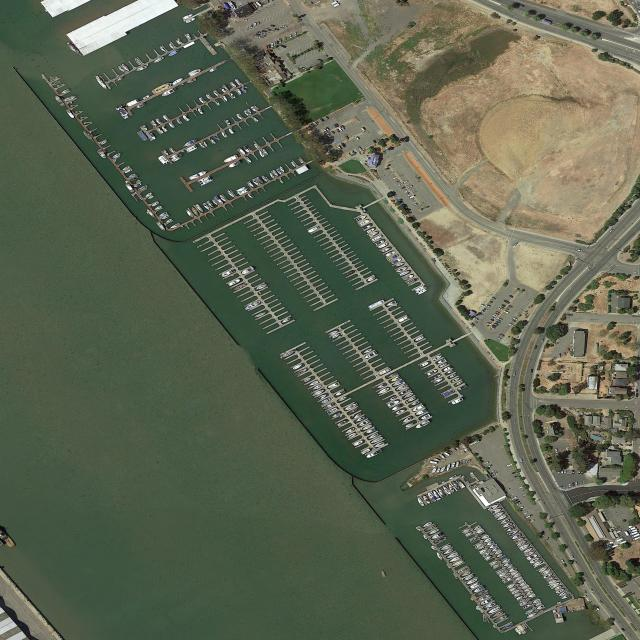large-vehicle: (605, 540, 615, 546), (603, 547, 612, 552), (630, 531, 639, 536), (624, 530, 630, 537), (517, 485, 525, 490), (620, 540, 628, 545), (616, 537, 624, 542), (612, 544, 620, 548), (630, 529, 638, 533), (615, 530, 622, 534), (629, 527, 636, 531)
ship: (152, 81, 174, 95), (94, 75, 109, 91), (115, 105, 131, 120), (188, 170, 208, 181), (196, 175, 213, 187), (365, 448, 383, 459), (244, 300, 262, 311), (160, 87, 178, 98), (68, 43, 82, 57), (368, 299, 385, 310), (135, 130, 150, 142), (414, 419, 430, 430), (222, 154, 239, 164), (414, 285, 429, 296), (235, 185, 250, 196), (169, 152, 184, 163), (157, 154, 170, 166), (125, 98, 140, 108), (82, 130, 94, 142), (53, 95, 65, 107), (295, 367, 310, 376), (221, 269, 236, 278), (182, 139, 197, 148), (187, 68, 202, 77), (450, 397, 464, 406), (387, 399, 401, 408), (364, 351, 378, 360), (445, 551, 459, 560), (456, 566, 470, 575), (480, 597, 494, 606), (494, 614, 508, 623), (322, 402, 336, 411), (370, 436, 384, 445), (357, 218, 371, 227), (124, 182, 135, 193), (97, 149, 108, 160), (146, 209, 157, 220), (156, 221, 167, 232), (232, 283, 247, 291), (412, 404, 425, 413), (392, 379, 405, 388), (228, 160, 241, 169), (344, 403, 357, 412), (228, 278, 241, 287), (241, 266, 254, 275), (171, 77, 184, 86), (378, 367, 391, 376), (414, 408, 428, 416), (442, 389, 456, 397), (376, 387, 390, 395), (281, 350, 295, 358), (312, 389, 326, 397), (451, 559, 465, 567), (477, 594, 491, 602), (487, 606, 501, 614), (441, 485, 452, 495), (190, 206, 200, 217), (396, 265, 408, 274), (398, 388, 411, 396), (395, 384, 408, 392), (426, 368, 439, 376), (327, 381, 340, 389), (439, 544, 452, 552), (424, 524, 437, 532), (449, 555, 462, 563), (465, 578, 478, 586), (484, 602, 497, 610), (367, 433, 380, 441), (373, 441, 386, 449), (254, 311, 267, 319), (255, 283, 268, 291), (406, 277, 419, 285), (185, 145, 198, 153), (307, 226, 320, 234), (355, 214, 368, 222), (487, 503, 500, 511), (451, 480, 461, 490), (446, 483, 456, 493), (436, 487, 446, 497), (416, 497, 426, 507), (65, 109, 75, 119), (214, 195, 224, 205), (401, 416, 413, 424), (385, 300, 397, 308), (442, 548, 454, 556), (434, 536, 446, 544), (431, 532, 443, 540), (463, 574, 475, 582), (361, 424, 373, 432), (346, 432, 358, 440), (387, 254, 399, 262), (368, 230, 380, 238), (153, 56, 165, 64), (549, 581, 561, 589), (390, 258, 403, 265), (402, 274, 415, 281), (64, 95, 77, 102), (502, 623, 515, 630), (490, 507, 503, 514), (526, 553, 539, 560), (181, 13, 194, 20), (431, 490, 441, 499), (426, 492, 436, 501), (422, 495, 431, 505), (226, 190, 236, 199), (195, 204, 205, 213), (121, 63, 130, 73), (227, 1, 237, 10), (390, 375, 401, 383), (292, 363, 303, 371), (469, 582, 480, 590), (473, 586, 484, 594), (344, 427, 355, 435), (361, 447, 372, 455), (135, 102, 146, 110), (558, 590, 569, 598), (397, 316, 409, 323), (432, 354, 444, 361), (478, 589, 490, 596), (492, 611, 504, 618), (358, 420, 370, 427), (337, 420, 349, 427), (327, 407, 339, 414), (371, 235, 383, 242), (169, 223, 181, 230), (167, 50, 179, 57), (493, 511, 505, 518), (516, 540, 528, 547), (519, 543, 531, 550), (524, 550, 536, 557), (529, 557, 541, 564), (435, 551, 444, 560), (219, 194, 228, 203), (185, 209, 194, 218), (202, 202, 211, 211), (206, 200, 215, 209), (395, 408, 406, 415), (391, 404, 402, 411), (403, 392, 414, 399), (387, 372, 398, 379), (308, 380, 319, 387), (59, 88, 70, 95), (422, 521, 433, 528), (461, 570, 472, 577), (366, 428, 377, 435), (355, 416, 366, 423), (337, 396, 348, 403), (320, 398, 331, 405), (353, 440, 364, 447), (281, 317, 292, 324), (366, 276, 377, 283), (399, 270, 410, 277), (385, 250, 396, 257), (378, 242, 389, 249), (136, 65, 147, 72), (496, 514, 507, 521), (502, 522, 513, 529), (511, 533, 522, 540), (514, 537, 525, 544), (532, 560, 543, 567), (541, 569, 552, 576), (543, 572, 554, 579), (545, 575, 556, 582), (328, 329, 339, 336), (238, 147, 246, 156), (256, 176, 264, 185), (526, 612, 538, 618), (457, 480, 466, 488), (252, 178, 260, 187), (117, 65, 126, 73), (380, 569, 388, 578), (407, 396, 417, 403), (457, 384, 467, 391), (454, 380, 464, 387), (377, 382, 387, 389), (312, 384, 322, 391), (420, 361, 430, 368), (335, 390, 345, 397), (362, 224, 372, 231), (381, 246, 391, 253), (208, 66, 218, 73), (477, 531, 487, 538), (472, 525, 482, 532), (482, 537, 492, 544), (485, 540, 495, 547), (488, 543, 498, 550), (506, 526, 516, 533), (509, 529, 519, 536), (523, 547, 533, 554), (519, 600, 529, 607), (502, 577, 512, 584), (498, 571, 508, 578), (560, 594, 570, 601), (433, 378, 444, 384), (414, 336, 425, 342), (317, 394, 328, 400), (429, 529, 440, 535), (348, 408, 359, 414), (186, 78, 197, 84), (555, 588, 566, 594), (185, 18, 196, 24), (257, 149, 265, 157), (268, 171, 276, 179), (261, 175, 269, 183), (247, 181, 255, 189), (134, 57, 142, 65), (222, 2, 230, 10), (411, 400, 420, 407), (536, 604, 545, 611), (479, 548, 488, 555), (421, 414, 431, 420), (451, 377, 461, 383), (303, 377, 313, 383), (363, 348, 373, 354), (331, 412, 341, 418), (366, 227, 376, 233), (375, 240, 385, 246), (138, 185, 148, 191), (112, 153, 122, 159), (116, 76, 126, 82), (525, 609, 535, 615), (461, 528, 471, 534), (480, 534, 490, 540), (500, 519, 510, 525), (538, 567, 548, 573), (483, 555, 493, 561), (522, 587, 532, 593), (511, 589, 521, 595), (489, 560, 499, 566), (531, 599, 541, 605), (506, 583, 516, 589), (513, 576, 523, 582), (548, 579, 558, 585), (331, 333, 341, 339), (243, 146, 251, 153), (262, 148, 269, 156), (440, 465, 447, 473), (198, 142, 206, 149), (163, 149, 170, 157), (182, 115, 190, 122), (223, 84, 230, 92), (161, 125, 168, 133), (149, 133, 157, 140), (159, 45, 166, 53), (437, 358, 446, 364), (443, 366, 452, 372), (353, 413, 362, 419), (448, 475, 457, 481), (130, 176, 139, 182), (144, 192, 153, 198), (161, 214, 170, 220), (475, 528, 484, 534), (482, 552, 491, 558), (491, 547, 500, 553), (509, 586, 518, 592), (527, 593, 536, 599), (510, 570, 519, 576), (512, 573, 521, 579), (508, 567, 517, 573), (496, 569, 505, 575), (501, 558, 510, 564), (493, 550, 502, 556), (554, 585, 563, 591), (121, 166, 131, 171), (158, 212, 168, 217), (245, 157, 252, 164), (290, 161, 297, 168), (272, 170, 279, 177), (431, 467, 438, 474), (221, 131, 228, 138), (168, 122, 175, 129), (211, 199, 218, 206), (234, 79, 241, 86), (229, 92, 236, 99), (222, 95, 229, 102), (198, 97, 205, 104), (197, 108, 204, 115), (162, 115, 169, 122), (155, 118, 162, 125), (151, 120, 158, 127), (185, 33, 192, 40), (168, 43, 175, 50), (255, 0, 262, 7), (236, 113, 243, 120), (243, 110, 250, 117), (250, 106, 257, 113), (228, 128, 235, 135), (276, 168, 282, 176), (154, 205, 162, 211), (477, 545, 485, 551), (525, 590, 533, 596), (405, 423, 414, 428), (389, 396, 398, 401), (396, 262, 405, 267), (151, 202, 160, 207), (469, 537, 478, 542), (474, 543, 483, 548), (518, 582, 527, 587), (520, 585, 529, 590), (513, 592, 522, 597), (518, 598, 527, 603), (522, 604, 531, 609), (516, 579, 525, 584), (503, 562, 512, 567), (498, 556, 507, 561), (492, 564, 501, 569), (279, 166, 285, 173), (439, 454, 446, 460), (202, 141, 209, 147), (210, 139, 217, 145), (213, 135, 220, 141), (168, 148, 175, 154), (230, 82, 237, 88), (236, 89, 243, 95), (220, 87, 227, 93), (213, 90, 219, 97), (206, 94, 212, 101), (175, 119, 182, 125), (157, 128, 164, 134), (246, 108, 252, 115), (253, 105, 260, 111), (434, 374, 442, 379), (446, 464, 451, 472), (142, 95, 150, 100), (134, 183, 142, 188), (128, 173, 136, 178), (125, 169, 133, 174), (100, 140, 108, 145), (465, 532, 473, 537), (516, 595, 524, 600), (501, 575, 509, 580), (176, 39, 182, 45), (298, 158, 304, 164), (422, 534, 428, 540), (247, 193, 253, 199), (215, 100, 221, 106), (225, 119, 231, 125), (449, 374, 456, 379), (430, 546, 437, 551), (415, 527, 422, 532), (455, 461, 460, 468), (451, 462, 456, 469), (147, 195, 154, 200), (165, 219, 172, 224), (446, 449, 453, 454), (535, 602, 542, 607), (506, 565, 513, 570), (496, 553, 503, 558), (446, 370, 454, 374), (253, 144, 259, 149), (143, 125, 148, 131), (253, 117, 259, 122), (433, 458, 440, 462), (436, 468, 441, 473), (556, 601, 562, 604), (557, 614, 561, 618), (258, 291, 262, 295), (113, 159, 117, 163), (436, 498, 441, 501), (555, 614, 558, 618), (432, 500, 437, 502), (246, 101, 248, 106), (463, 460, 465, 464)
small-vehicle: (407, 195, 415, 200), (511, 496, 518, 501), (526, 514, 533, 519), (491, 471, 498, 476), (301, 66, 308, 71), (493, 312, 499, 317), (499, 333, 505, 338), (341, 143, 347, 148), (504, 487, 510, 492), (594, 606, 600, 611), (324, 115, 330, 120), (503, 300, 510, 304), (494, 321, 501, 325), (388, 172, 395, 176), (506, 463, 513, 467), (483, 461, 490, 465), (488, 470, 495, 474), (486, 464, 493, 468), (278, 26, 285, 30), (492, 314, 497, 319), (385, 147, 390, 152), (337, 145, 342, 150), (331, 130, 336, 135), (336, 128, 341, 133), (570, 555, 575, 560), (338, 127, 343, 132), (340, 126, 345, 131), (323, 128, 328, 133), (313, 121, 318, 126), (326, 127, 331, 132), (482, 307, 488, 311), (495, 311, 501, 315), (497, 307, 503, 311), (503, 310, 509, 314), (491, 297, 497, 301), (485, 304, 491, 308), (478, 313, 484, 317), (490, 326, 496, 330), (508, 323, 514, 327), (511, 319, 517, 323), (490, 316, 496, 320), (497, 317, 503, 321), (495, 319, 501, 323), (392, 176, 398, 180), (357, 147, 363, 151), (403, 180, 409, 184), (407, 185, 413, 189), (400, 186, 406, 190), (404, 190, 410, 194), (392, 194, 398, 198), (398, 201, 404, 205), (406, 211, 412, 215), (409, 215, 415, 219), (516, 502, 522, 506), (523, 511, 529, 515), (522, 492, 528, 496), (577, 415, 583, 419), (240, 48, 246, 52), (256, 31, 263, 34), (317, 59, 324, 62), (518, 4, 525, 7), (582, 29, 589, 32), (270, 24, 277, 27), (508, 305, 513, 309), (540, 338, 544, 343), (474, 317, 479, 321), (497, 337, 502, 341), (513, 317, 518, 321), (609, 228, 614, 232), (514, 242, 519, 246), (327, 150, 332, 154), (373, 139, 377, 144), (355, 136, 360, 140), (344, 136, 349, 140), (326, 133, 331, 137), (400, 204, 405, 208), (411, 217, 416, 221), (541, 533, 546, 537), (567, 347, 571, 352), (621, 627, 625, 632), (563, 563, 568, 567), (598, 600, 603, 604), (335, 123, 340, 127), (315, 120, 320, 124), (320, 118, 325, 122), (332, 124, 337, 128), (253, 22, 257, 27), (501, 304, 507, 307), (577, 249, 583, 252), (486, 322, 492, 325), (493, 323, 499, 326), (384, 167, 390, 170), (412, 219, 418, 222), (406, 194, 412, 197), (412, 201, 418, 204), (554, 342, 560, 345), (618, 443, 624, 446), (515, 501, 521, 504), (513, 475, 519, 478), (511, 471, 517, 474), (252, 35, 258, 38), (258, 36, 264, 39), (261, 34, 267, 37), (255, 33, 261, 36), (262, 30, 268, 33), (265, 28, 271, 31), (274, 28, 280, 31), (282, 25, 288, 28), (294, 31, 297, 37), (281, 45, 287, 48), (242, 18, 248, 21), (565, 314, 573, 316), (534, 345, 538, 349), (545, 537, 549, 541), (573, 561, 577, 565), (561, 560, 565, 564), (635, 383, 639, 387), (563, 352, 567, 356), (583, 590, 587, 594), (589, 588, 593, 592), (270, 43, 274, 47), (492, 325, 497, 328), (395, 180, 400, 183), (397, 184, 402, 187), (405, 192, 410, 195), (414, 203, 419, 206), (519, 506, 524, 509), (572, 482, 575, 487), (520, 458, 523, 463), (561, 469, 564, 474), (513, 499, 518, 502), (276, 40, 279, 45), (265, 45, 268, 50), (279, 38, 282, 43), (481, 310, 485, 313), (509, 295, 513, 298), (513, 372, 516, 376), (530, 369, 533, 373), (568, 483, 571, 487), (575, 482, 578, 486), (572, 470, 575, 474), (555, 449, 558, 453), (606, 449, 612, 451), (614, 447, 620, 449), (633, 420, 636, 424), (635, 393, 638, 397), (636, 372, 639, 376), (558, 353, 561, 357), (581, 470, 584, 474), (558, 470, 561, 474), (268, 44, 271, 48), (284, 37, 287, 41), (289, 34, 292, 38), (257, 21, 260, 25), (250, 24, 253, 28), (591, 457, 596, 459), (274, 41, 276, 46), (564, 470, 566, 474), (578, 470, 580, 474), (636, 389, 638, 393), (318, 48, 320, 52)
